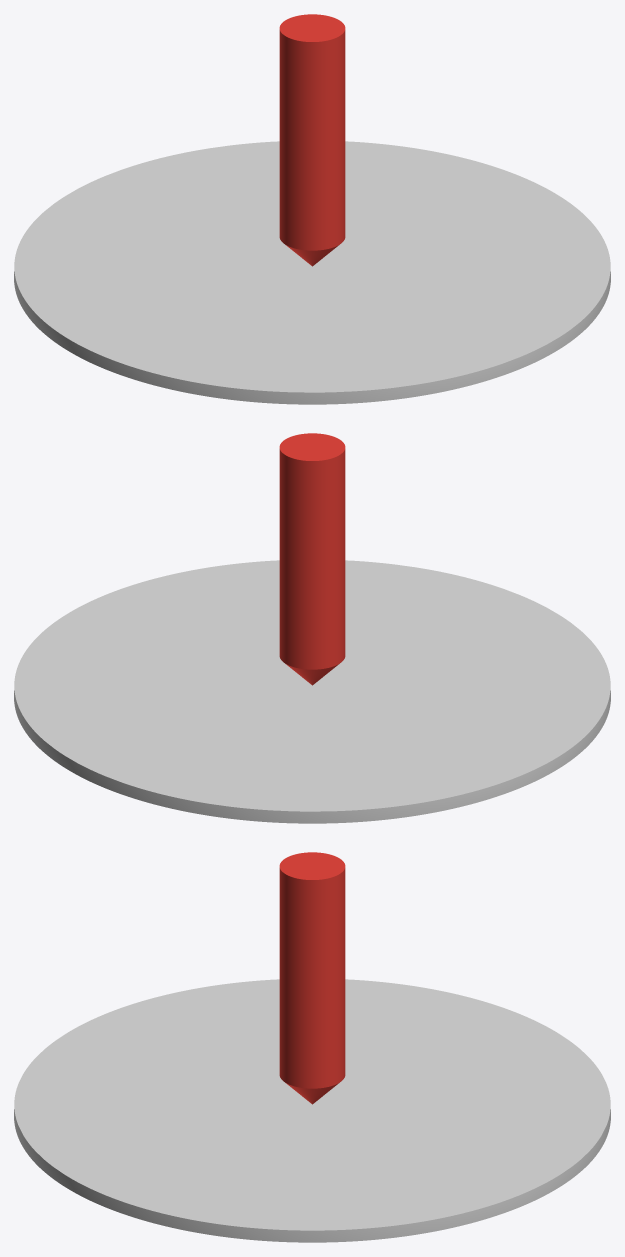
The picture shows the model from 3 angles, top to bottom: view 1: azimuth 30°, elevation 25°; view 2: azimuth 150°, elevation 25°; view 3: azimuth 270°, elevation 25°; orthographic projection.
Parts seen in each view (by area): view 1: 3Dvisualize_bottom, 3Dvisualize_cam; view 2: 3Dvisualize_bottom, 3Dvisualize_cam; view 3: 3Dvisualize_bottom, 3Dvisualize_cam.
Part boxes in pixels (x1,y1,x2,y2): 3Dvisualize_bottom: (14,141,610,404); 3Dvisualize_cam: (279,14,345,266); 3Dvisualize_bottom: (14,560,610,823); 3Dvisualize_cam: (279,433,345,685); 3Dvisualize_bottom: (14,979,610,1242); 3Dvisualize_cam: (279,852,345,1104).
Bounding box in the file's own units: 0.0454 × 0.021 × 0.0454.
